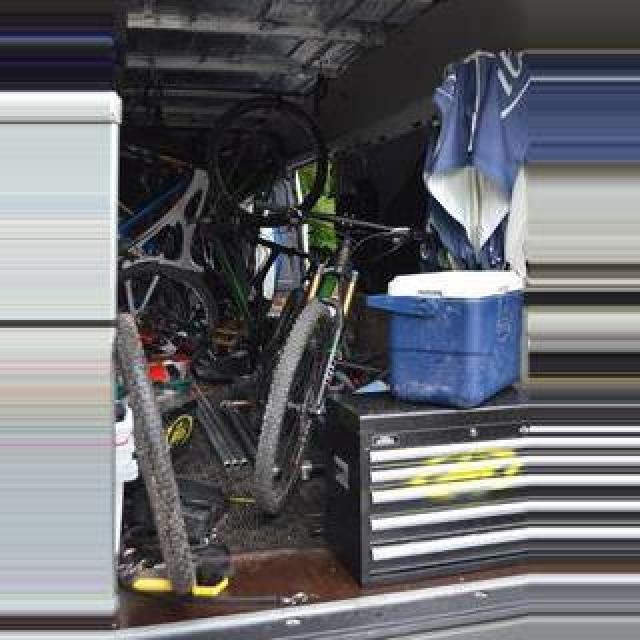Person: (244, 205, 416, 529)
